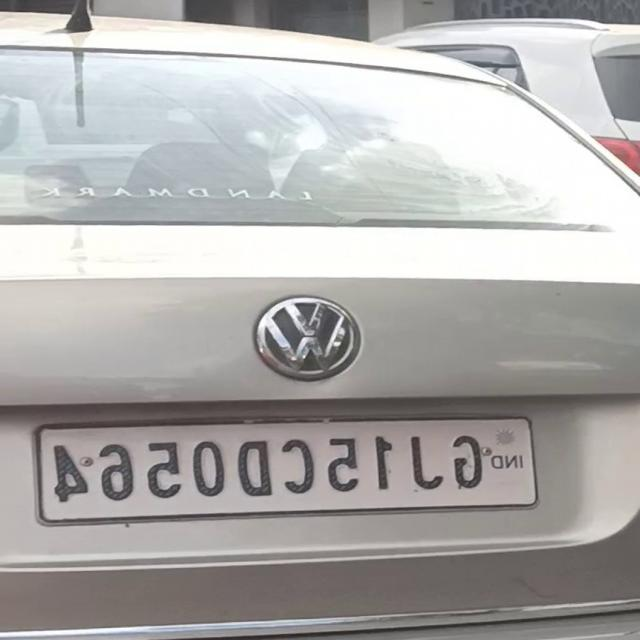license_plate: (28, 408, 547, 531)
